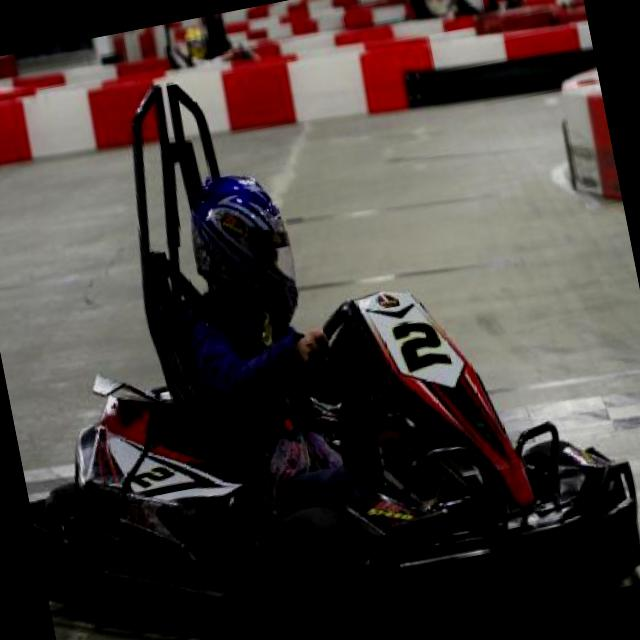Person: (158, 139, 466, 536), (179, 16, 235, 65)
